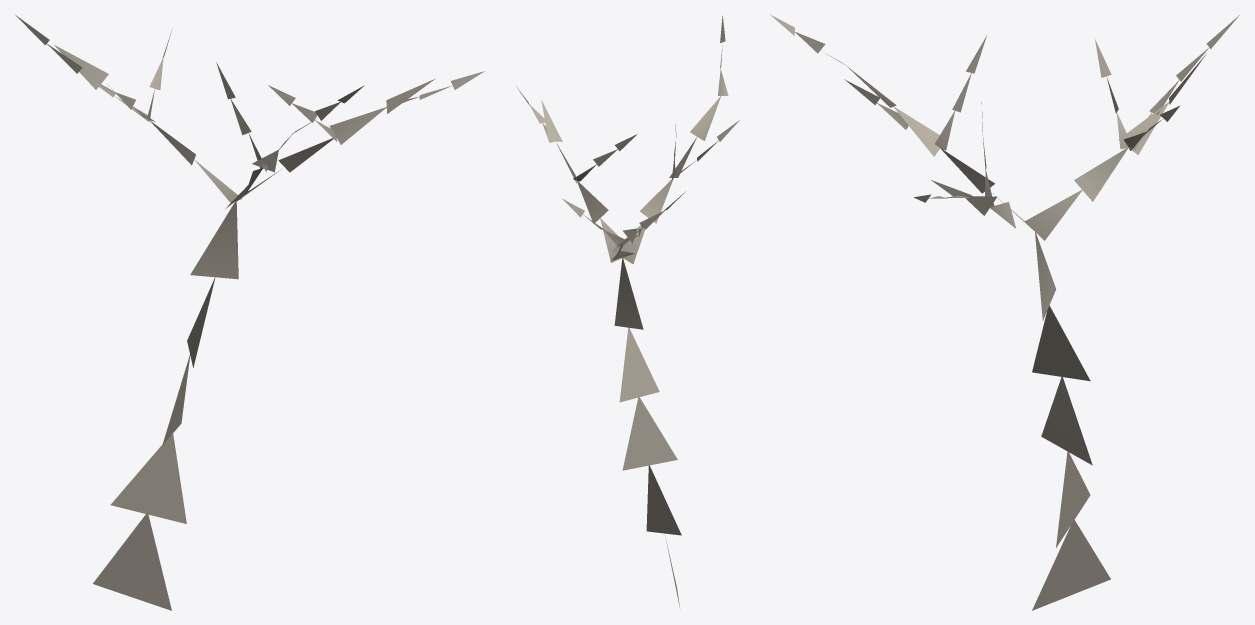
The model's file is tree_dead_b_far.glb.
3 views of the same model, side by side, from view 1: azimuth 30°, elevation 25°; view 2: azimuth 150°, elevation 25°; view 3: azimuth 270°, elevation 25° (orthographic). The views are drawn at different scales.
Parts seen in each view (by area): view 1: tree_dead_b_far; view 2: tree_dead_b_far; view 3: tree_dead_b_far.
Part boxes in pixels (bbox=[...]): tree_dead_b_far: bbox=[15, 15, 484, 610]; tree_dead_b_far: bbox=[516, 15, 739, 609]; tree_dead_b_far: bbox=[769, 14, 1239, 610].
Bounding box in the file's own units: 2.72 × 4.94 × 3.34.
